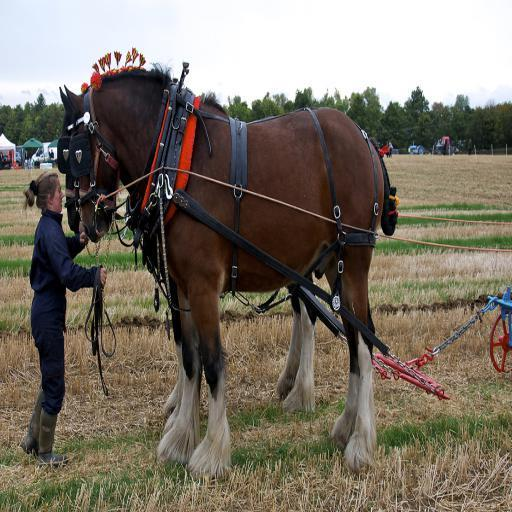horse: (64, 61, 398, 489), (56, 86, 320, 430)
